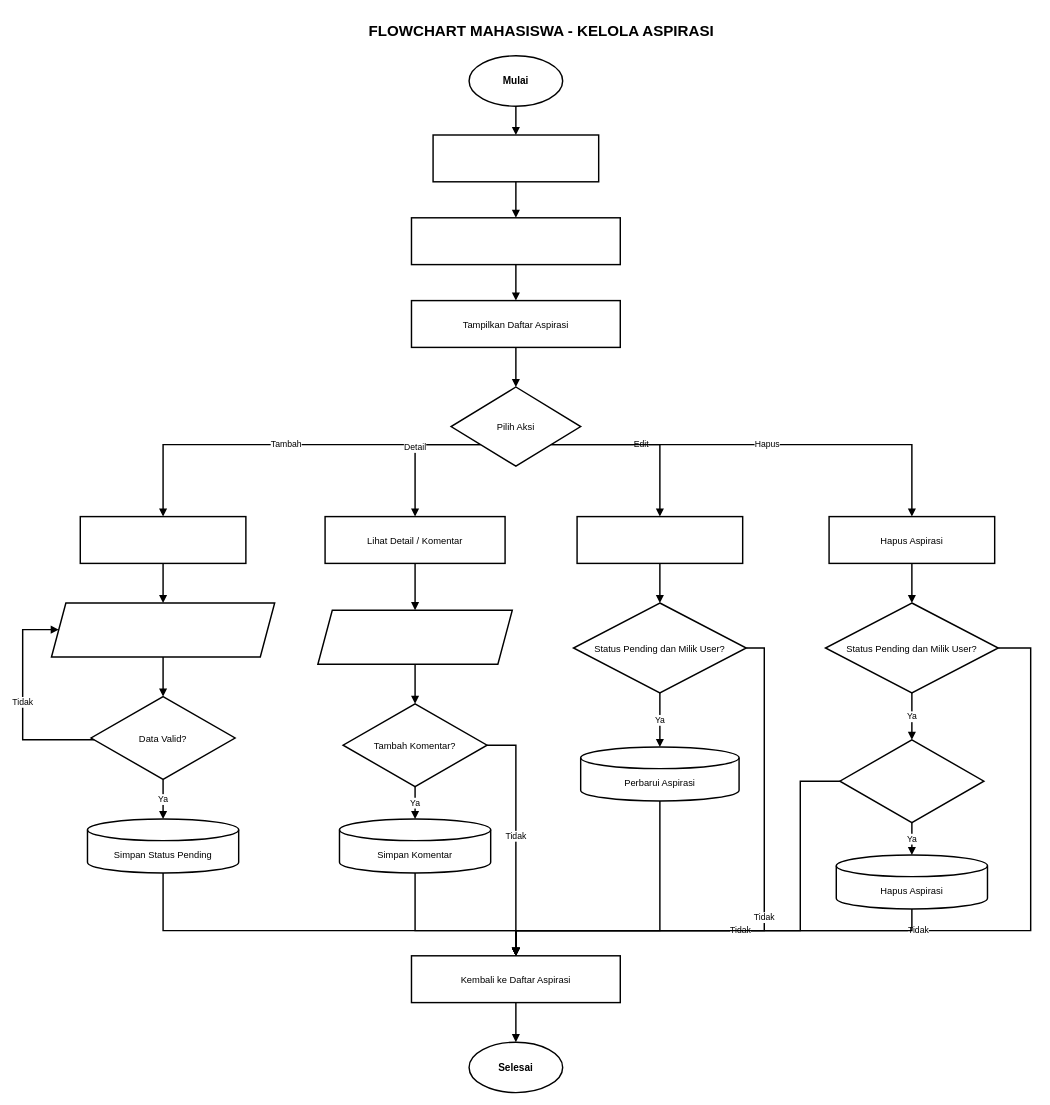
Some shapes in this 1050 by 1105 pixel diagram are drawn without their labels. Here are the shapes that lost their labels. From the top down, the box of each, then its label:
(432, 134, 599, 182): Mahasiswa Login
(410, 217, 621, 265): Masuk Dashboard Mahasiswa
(79, 516, 246, 564): Tambah Aspirasi
(576, 516, 743, 564): Edit Aspirasi
(50, 602, 275, 657): Isi Judul, Kategori, Isi, Lampiran
(317, 609, 513, 665): Tampilkan Detail dan Komentar
(839, 739, 984, 823): Konfirmasi Hapus?
